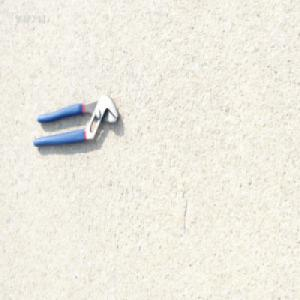Pliers: (31, 93, 119, 148)
